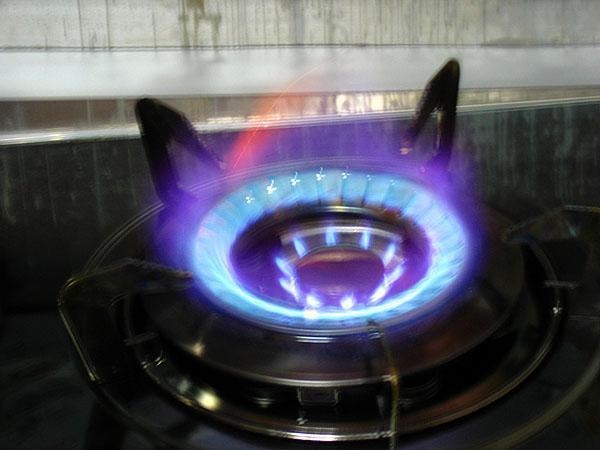fire: (138, 87, 505, 340)
